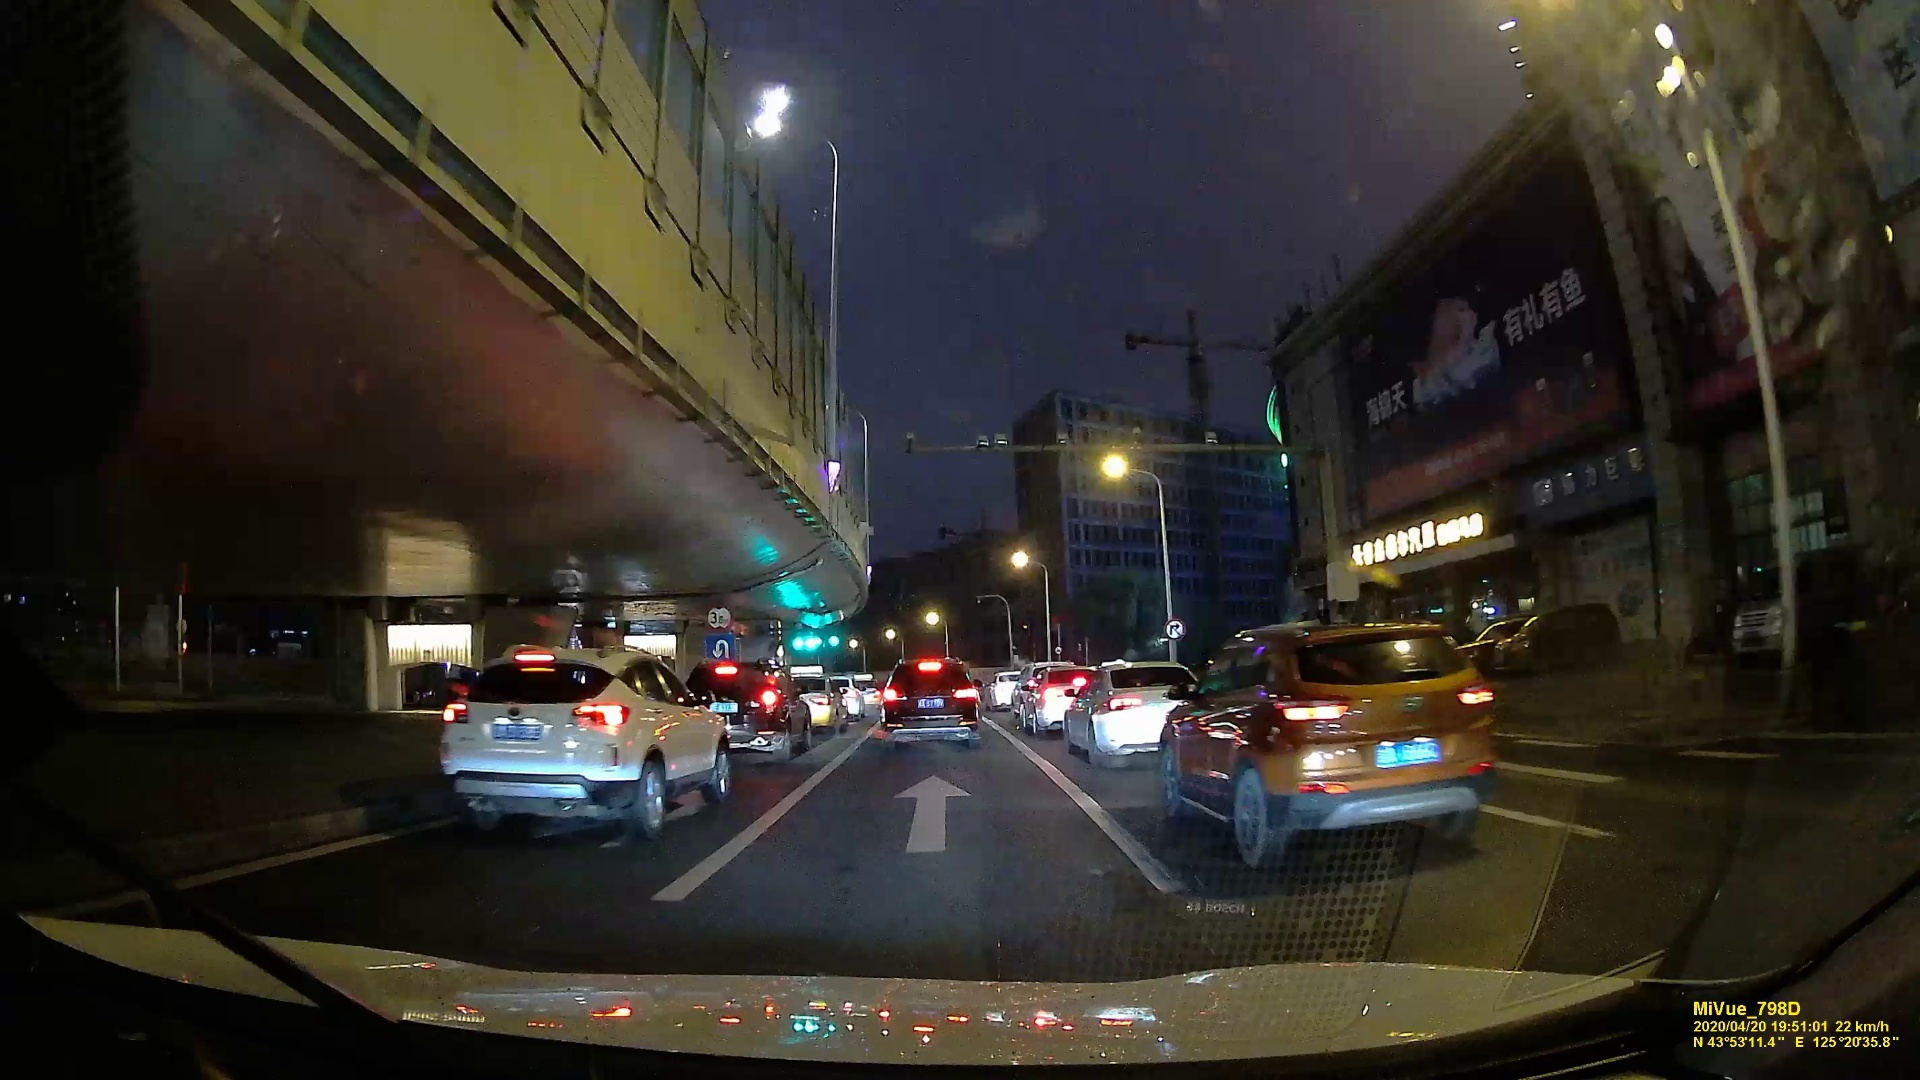traffic_sign: (708, 634, 735, 658), (1163, 616, 1185, 640), (709, 607, 729, 629)
vehicle: (1158, 624, 1494, 864), (444, 644, 724, 833), (1065, 658, 1197, 774), (680, 665, 811, 754), (878, 654, 985, 746), (1019, 662, 1095, 728)
